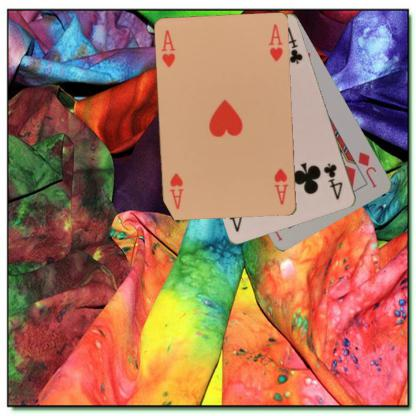4c: (322, 161, 344, 201)
Ah: (158, 27, 177, 69), (272, 166, 290, 206)
Jd: (356, 149, 378, 190)
